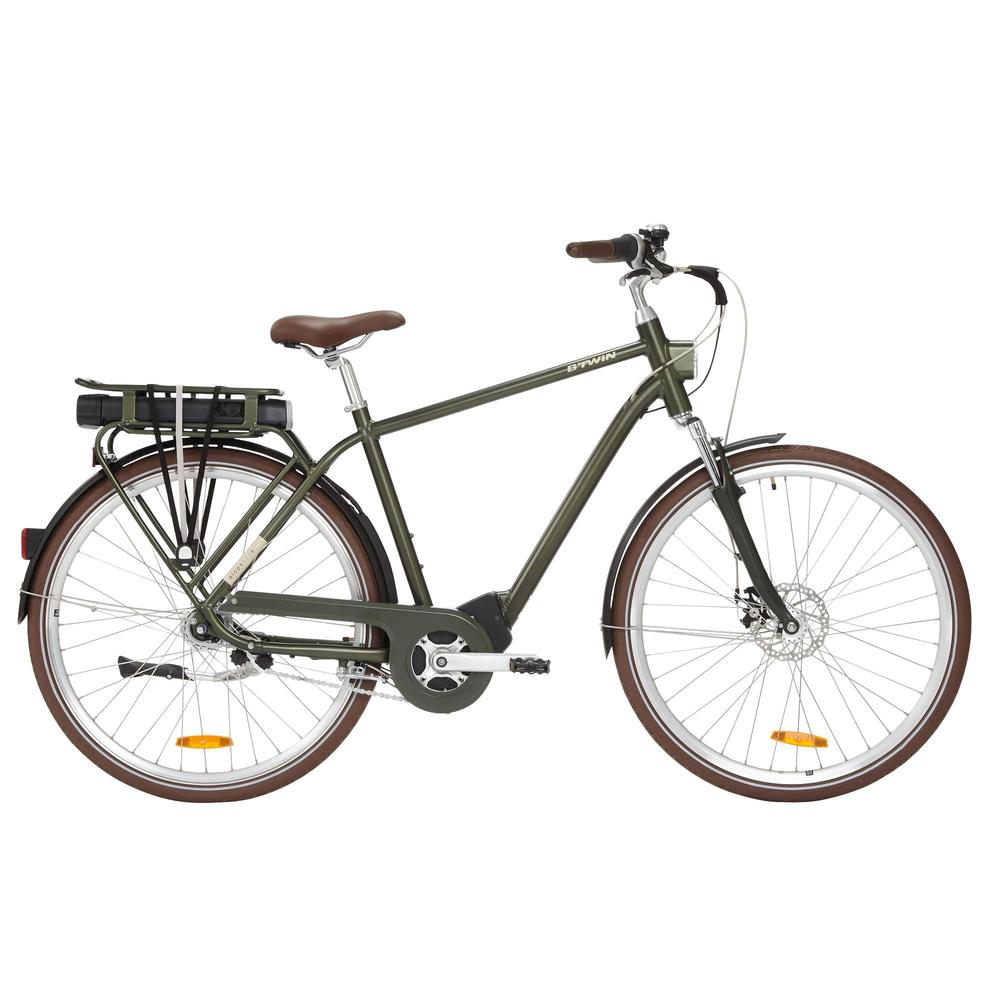UrbanBike: (10, 229, 998, 812)
